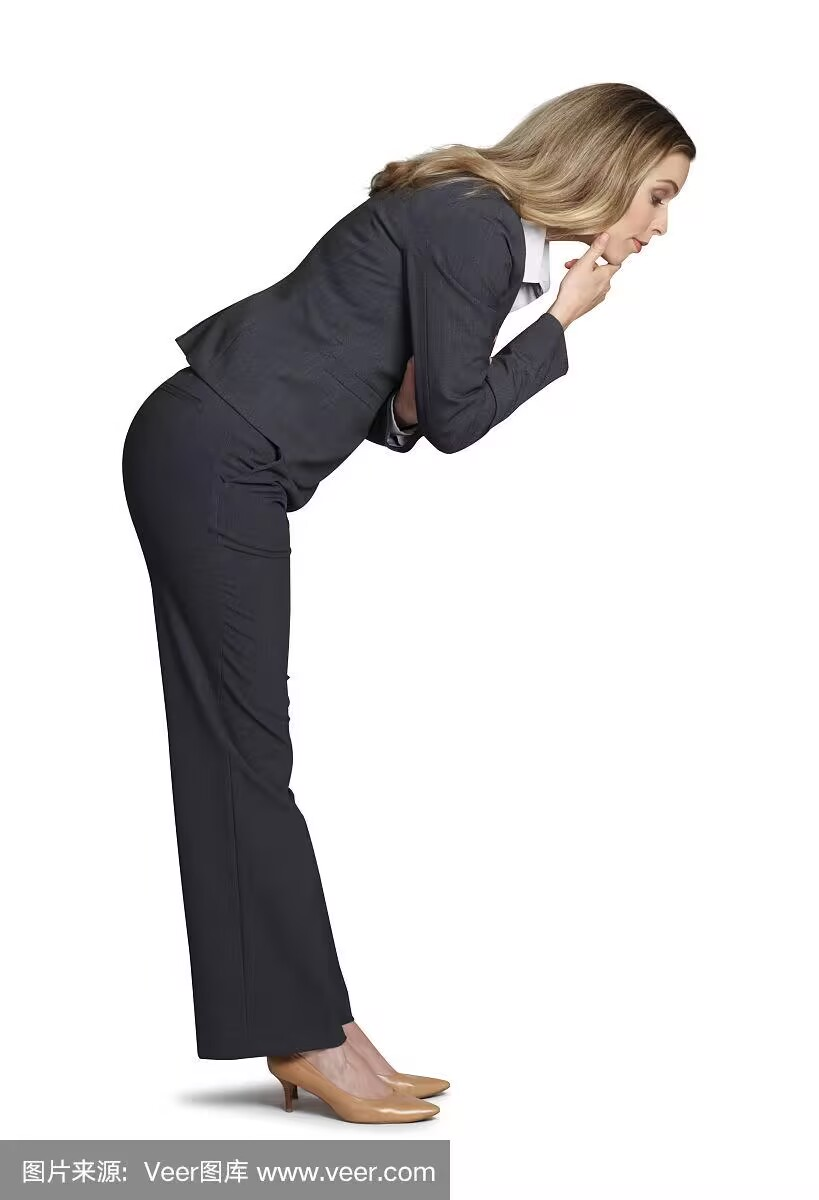bending: (74, 71, 712, 1139)
